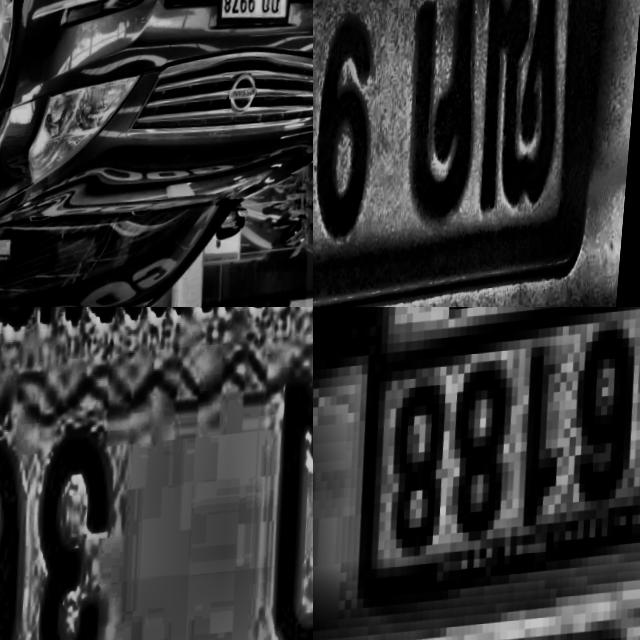license-plate: (0, 307, 313, 640), (313, 0, 640, 307), (340, 307, 640, 623), (208, 0, 308, 49)
